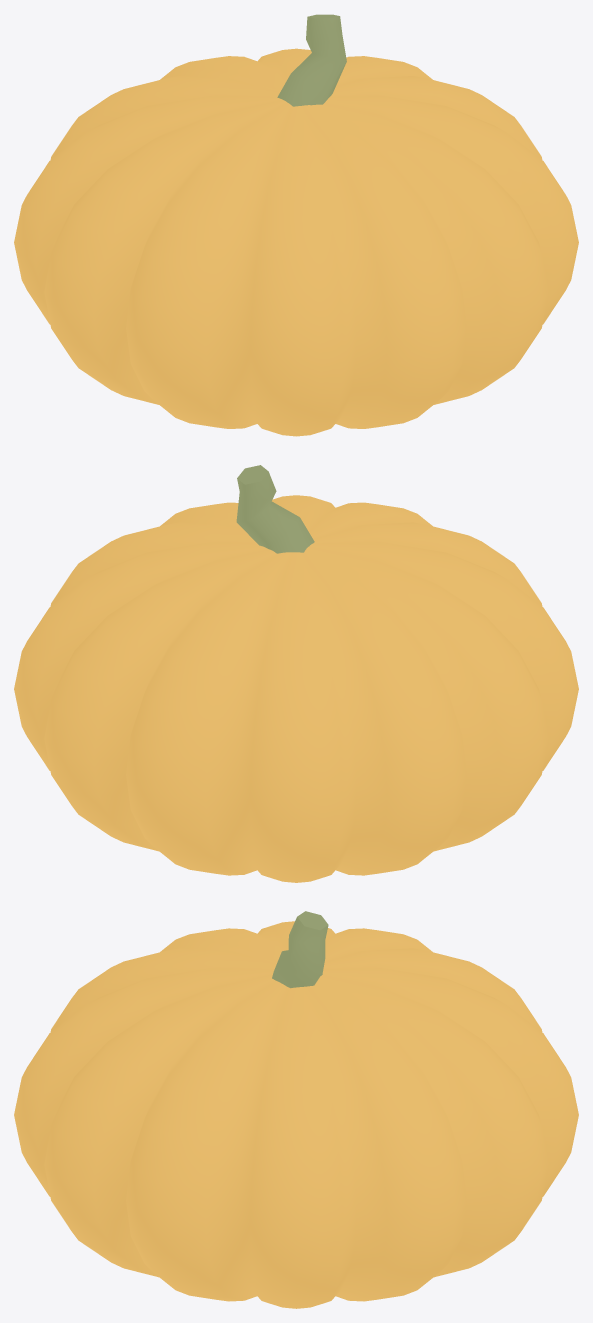
The model's file is Blender_Pumpkin_3.glb.
3 renders of one model, top to bottom at view 1: azimuth 30°, elevation 25°; view 2: azimuth 150°, elevation 25°; view 3: azimuth 270°, elevation 25°, orthographic.
Visible parts, largest first — view 1: Blender_Pumpkin_3; view 2: Blender_Pumpkin_3; view 3: Blender_Pumpkin_3.
Part boxes in pixels (<box>): Blender_Pumpkin_3: <box>14,14,578,436</box>; Blender_Pumpkin_3: <box>14,465,578,882</box>; Blender_Pumpkin_3: <box>14,911,578,1308</box>.
Bounding box in the file's own units: 1.38 × 0.9711 × 1.38.
